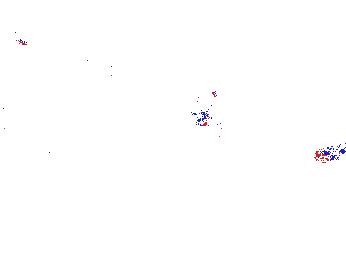red belly glassfish: (312, 146, 346, 164)
redtail glassfish: (80, 90, 163, 127), (194, 97, 248, 128), (80, 61, 134, 78), (1, 25, 27, 48)
